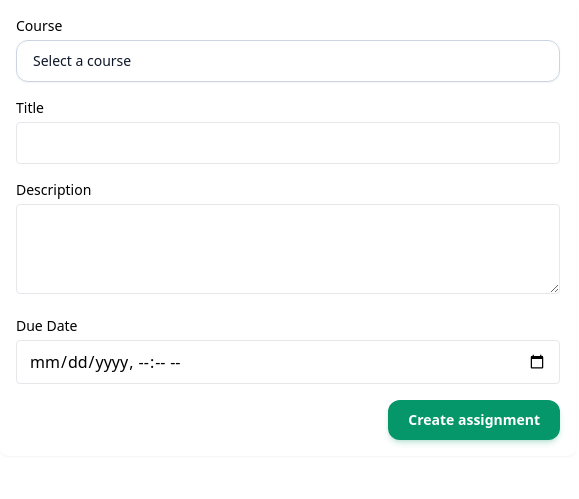
it: CreateAssignmentForm › shows success message after assignment is created successfully (FR7)
Select "Maths 101 (Maths)" in the dropdown at (288, 61), box [16,40,560,82]
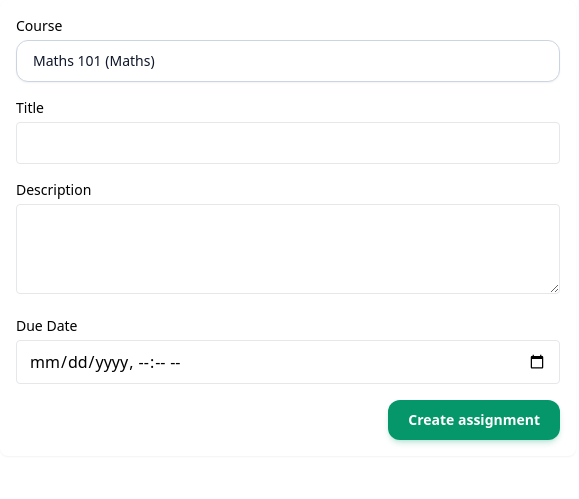
Note: The title input has no htmlFor, so find it by placeholder text
Type "New Task" into the field below "Title".
click(288, 143); type("New Task")  # box [16,122,560,164]
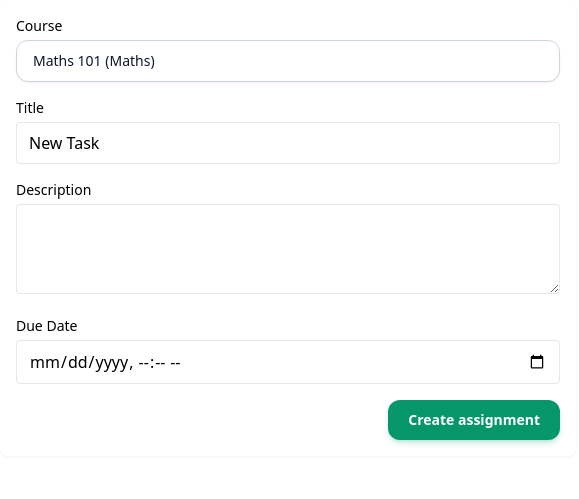
Click the button "Create assignment".
click(474, 420)  # box [388,400,560,440]
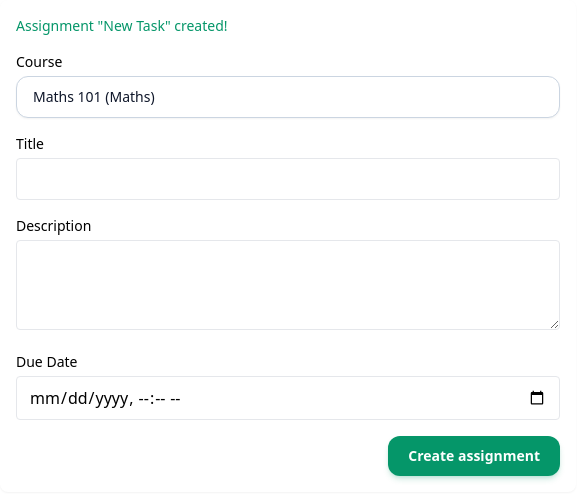
Expected: the text "Assignment \"New Task\" created!" is shown, [16,16,228,35]
